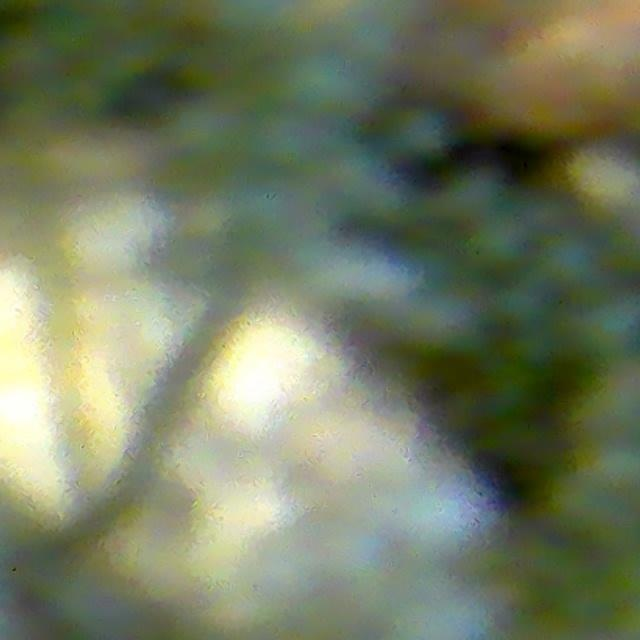SeaGrape: (397, 466, 498, 556), (246, 534, 342, 624), (280, 45, 367, 124), (576, 285, 639, 362), (537, 228, 605, 294), (391, 103, 449, 158)
